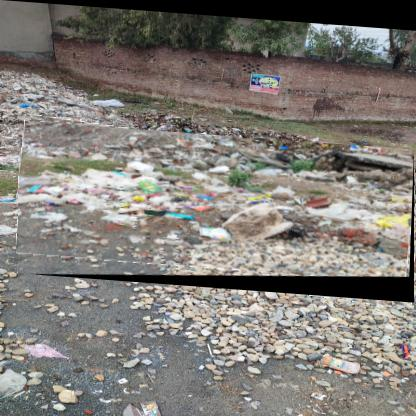Garbage: (19, 121, 416, 298)
